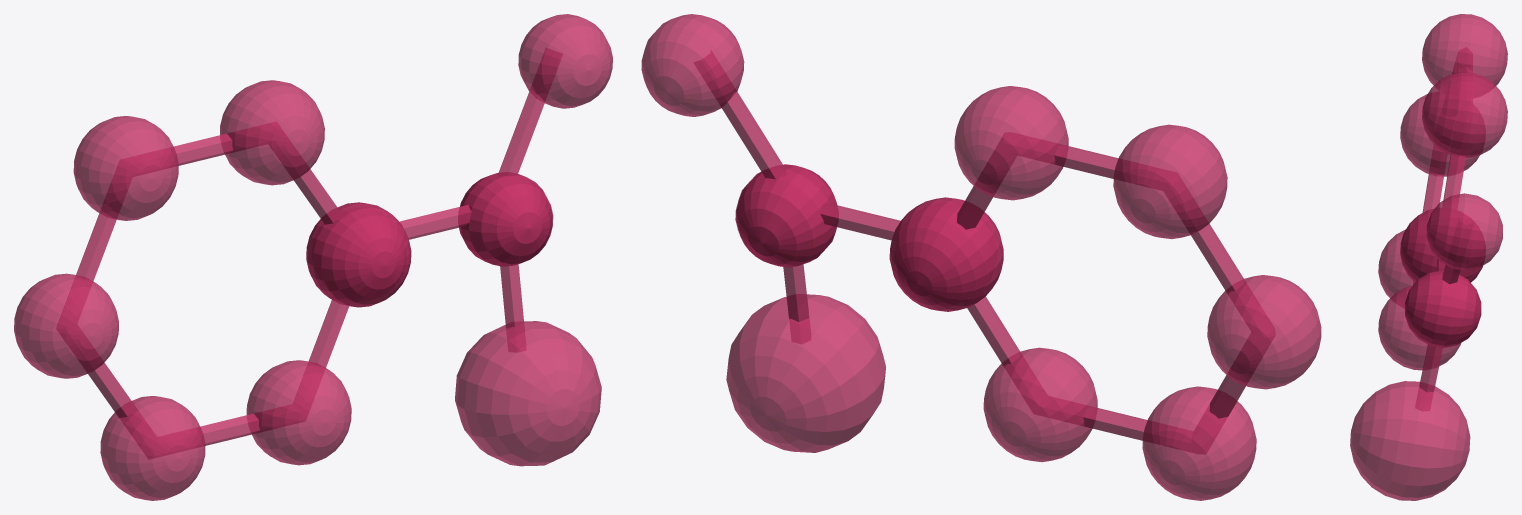
Rendered from molecule3.glb.
3 views of the same model, side by side, from view 1: azimuth 30°, elevation 25°; view 2: azimuth 150°, elevation 25°; view 3: azimuth 270°, elevation 25° (orthographic). The views are drawn at different scales.
Size of the model in its own units: 0.6554 by 0.4237 by 0.1832.
